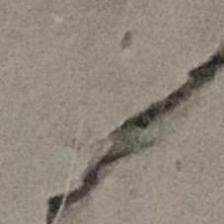Crack: (40, 39, 224, 220)
